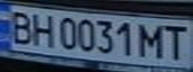0: (54, 15, 78, 51), (75, 17, 96, 53)
1: (115, 19, 136, 56)
3: (93, 18, 118, 55)
B: (3, 8, 36, 45)
H: (27, 11, 57, 47)
M: (136, 20, 166, 60)
T: (160, 22, 190, 61)
